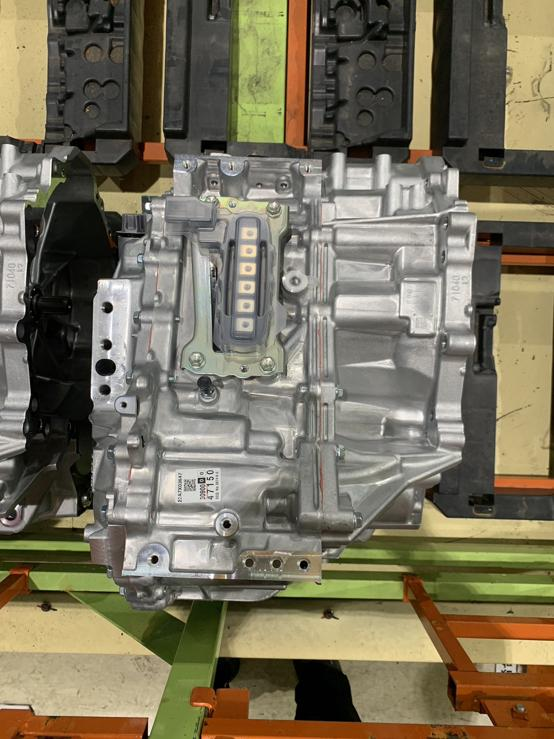gearbox_type3: (86, 151, 482, 609)
gearbox_type3_FP1: (228, 209, 271, 352)
gearbox_type3_FP2: (211, 505, 241, 539)
gearbox_type3_FP3: (91, 273, 139, 419)
